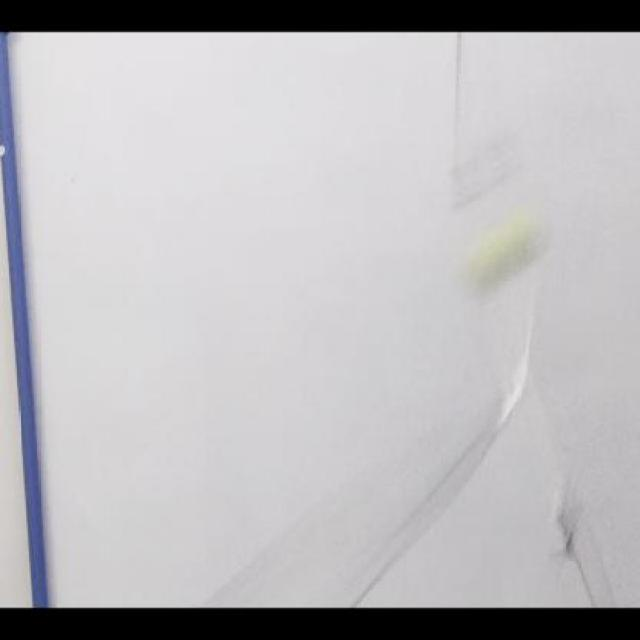baseball: (464, 210, 545, 298)
